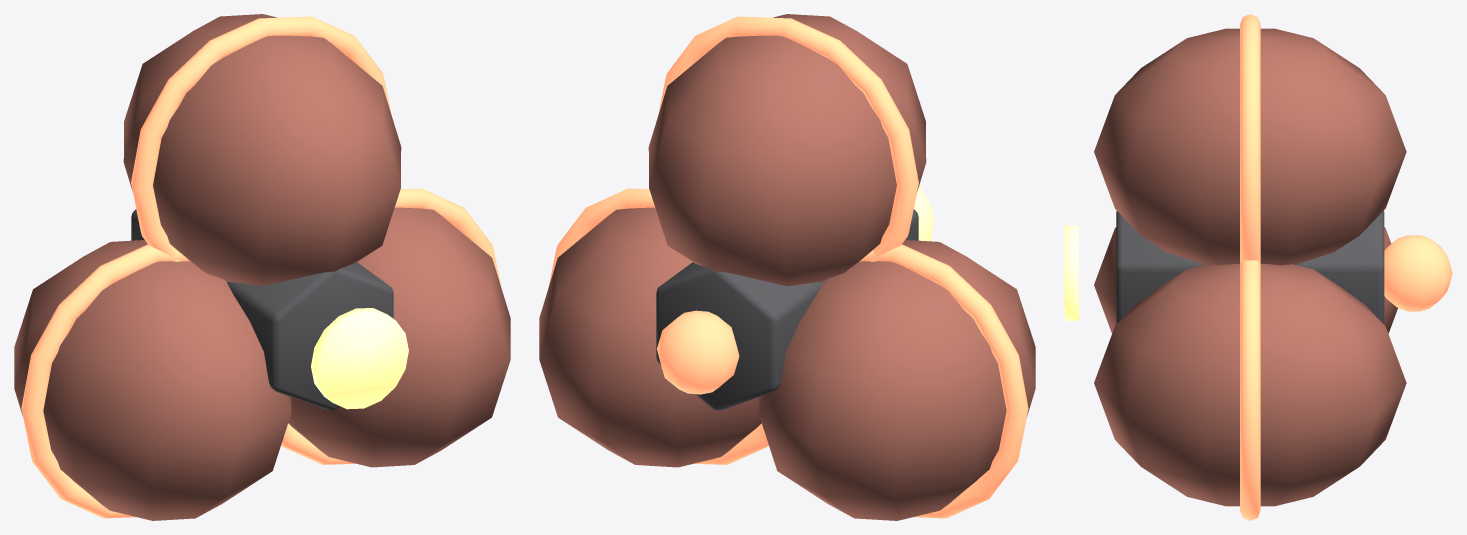
Rendered from splitter.glb.
The picture shows the model from 3 angles, left to right: view 1: azimuth 30°, elevation 25°; view 2: azimuth 150°, elevation 25°; view 3: azimuth 270°, elevation 25°; orthographic projection. The views are drawn at different scales.
Parts seen in each view (by area): view 1: Kapsel0, Kapsel1, Kapsel2, Klammer, Kapsel0Naht, Kapsel1Naht, Duese.001, Kapsel2Naht; view 2: Kapsel0, Kapsel1, Kapsel2, Klammer, Kapsel0Naht, Kapsel1Naht, Auge.004, Kapsel2Naht, Duese.001; view 3: Kapsel2, Kapsel0, Klammer, Kapsel2Naht, Kapsel0Naht, Auge.004, Kapsel1, Duese.001.
Boxes of the visible parts, x1=… form: Kapsel0: x1=123, y1=14, x2=401, y2=286; Kapsel1: x1=14, y1=240, x2=291, y2=520; Kapsel2: x1=288, y1=207, x2=510, y2=467; Klammer: x1=131, y1=209, x2=393, y2=410; Kapsel0Naht: x1=131, y1=16, x2=391, y2=261; Kapsel1Naht: x1=21, y1=244, x2=190, y2=518; Duese.001: x1=311, y1=308, x2=408, y2=409; Kapsel2Naht: x1=281, y1=188, x2=501, y2=464; Kapsel0: x1=648, y1=14, x2=926, y2=286; Kapsel1: x1=758, y1=240, x2=1035, y2=520; Kapsel2: x1=539, y1=207, x2=761, y2=467; Klammer: x1=656, y1=209, x2=918, y2=410; Kapsel0Naht: x1=658, y1=16, x2=918, y2=261; Kapsel1Naht: x1=859, y1=244, x2=1028, y2=518; Auge.004: x1=657, y1=310, x2=739, y2=394; Kapsel2Naht: x1=548, y1=188, x2=768, y2=464; Duese.001: x1=914, y1=186, x2=933, y2=241; Kapsel2: x1=1094, y1=264, x2=1406, y2=506; Kapsel0: x1=1094, y1=28, x2=1406, y2=265; Klammer: x1=1116, y1=211, x2=1384, y2=324; Kapsel2Naht: x1=1240, y1=260, x2=1260, y2=520; Kapsel0Naht: x1=1240, y1=14, x2=1260, y2=262; Auge.004: x1=1384, y1=235, x2=1452, y2=311; Kapsel1: x1=1094, y1=227, x2=1397, y2=333; Duese.001: x1=1064, y1=225, x2=1078, y2=320.
Size of the model in its own units: 1.71 by 1.6 by 1.31.
